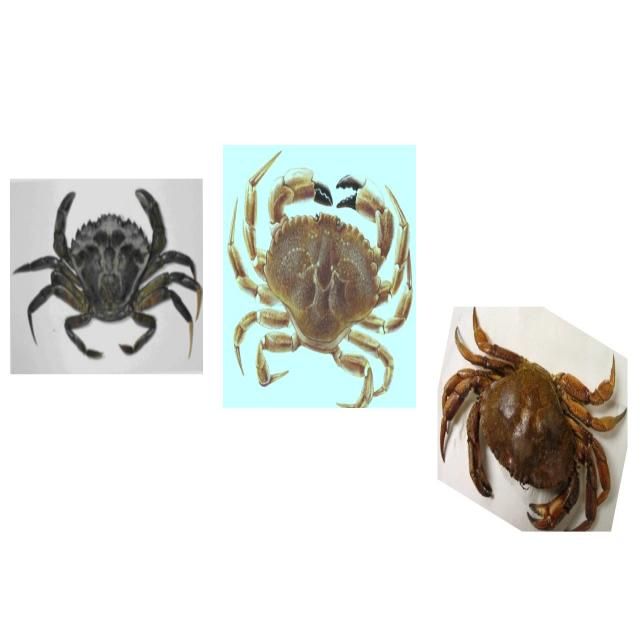egc: (9, 180, 202, 376)
jonah_crab: (222, 148, 414, 388)
rock_crab: (453, 302, 625, 542)
